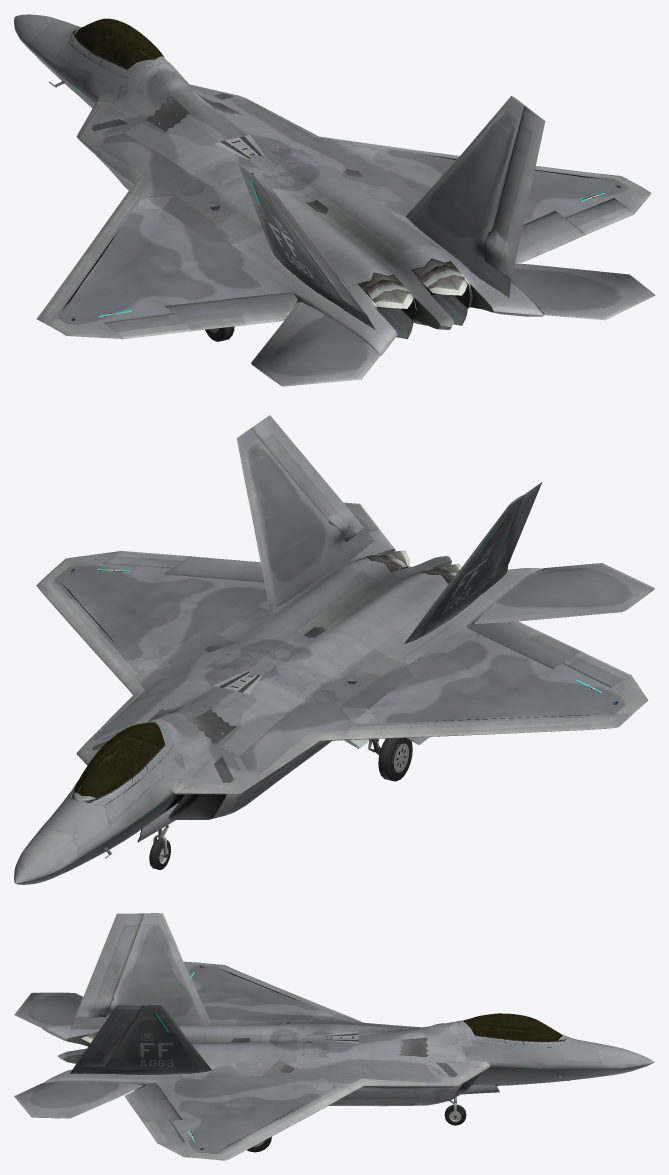
3 views of the same model, one above another, from view 1: azimuth 30°, elevation 25°; view 2: azimuth 150°, elevation 25°; view 3: azimuth 270°, elevation 25° (orthographic). The views are drawn at different scales.
Parts seen in each view (by area): view 1: Object_12, Object_22, Object_43, Object_115, Object_32; view 2: Object_12, Object_22, Object_115, Object_32, Object_4, Object_43, Object_14; view 3: Object_12, Object_22, Object_115, Object_32, Object_4.
Boxes of the visible parts, x1,y1,x2,y2 form: Object_12: (14,14,544,355); Object_22: (37,27,654,386); Object_43: (363,264,467,339); Object_115: (75,18,164,68); Object_32: (68,27,159,76); Object_12: (14,429,541,884); Object_22: (36,415,654,842); Object_115: (74,722,164,797); Object_32: (69,722,171,805); Object_4: (149,738,412,869); Object_43: (153,550,461,857); Object_14: (168,666,275,820); Object_12: (42,913,654,1106); Object_22: (14,913,568,1160); Object_115: (463,1013,562,1041); Object_32: (464,1020,561,1047); Object_4: (247,1104,466,1152).
Size of what is drawn, in the model's own units: 13.66 by 5.39 by 18.91.
27 materials, 24 textured.
